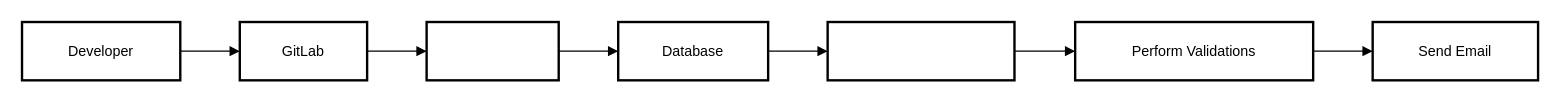
Some shapes in this 1559 by 101 pixel diagram are drawn without their labels. Each missing label, with the centre of its shape:
"Execute Tests" belongs at (920,50).
"Testing" belongs at (492,50).
